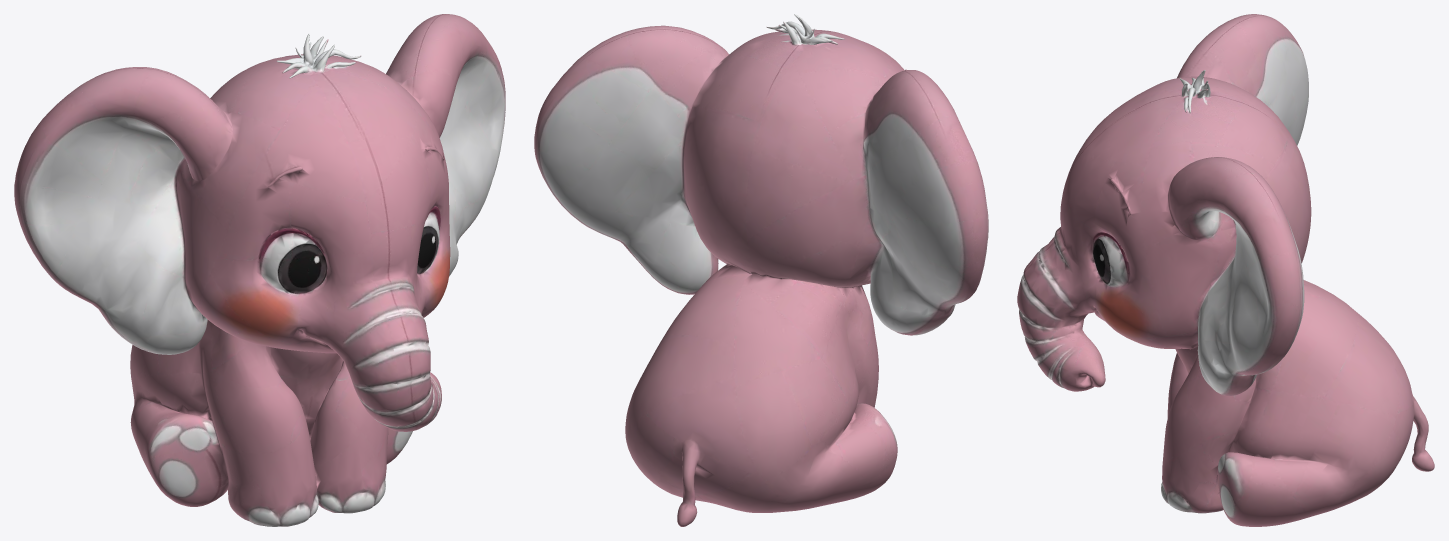
File: elephant-d.glb
3 renders of one model, left to right at view 1: azimuth 30°, elevation 25°; view 2: azimuth 150°, elevation 25°; view 3: azimuth 270°, elevation 25°, orthographic. The views are drawn at different scales.
Bounding box in the file's own units: 1.9 × 1.77 × 1.61.
Materials: 1 (1 with a texture image).
